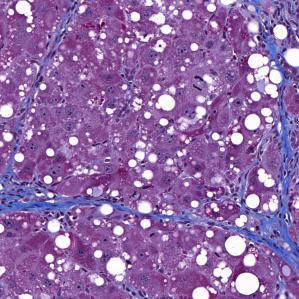fibrosis: (0, 165, 108, 227), (235, 173, 299, 264), (255, 1, 299, 124)
